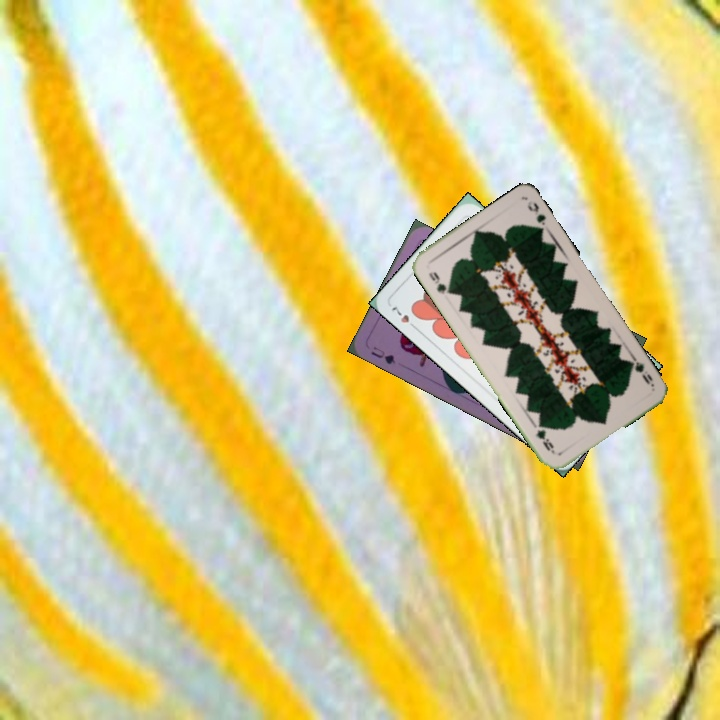G9: (623, 353, 657, 389), (424, 268, 455, 297)
GU: (367, 342, 398, 367)
H7: (387, 302, 420, 332)
